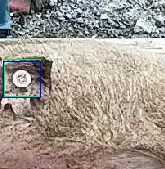text: (4, 59, 40, 96)
